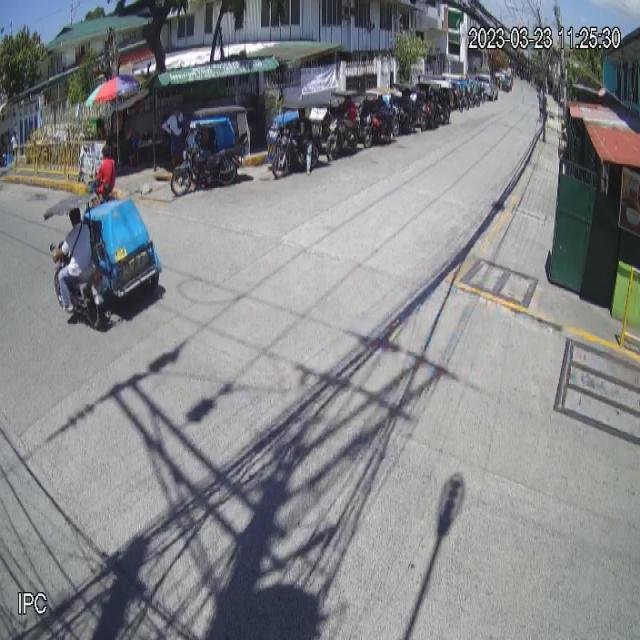Tricycle: (43, 194, 163, 331), (170, 104, 251, 198)
